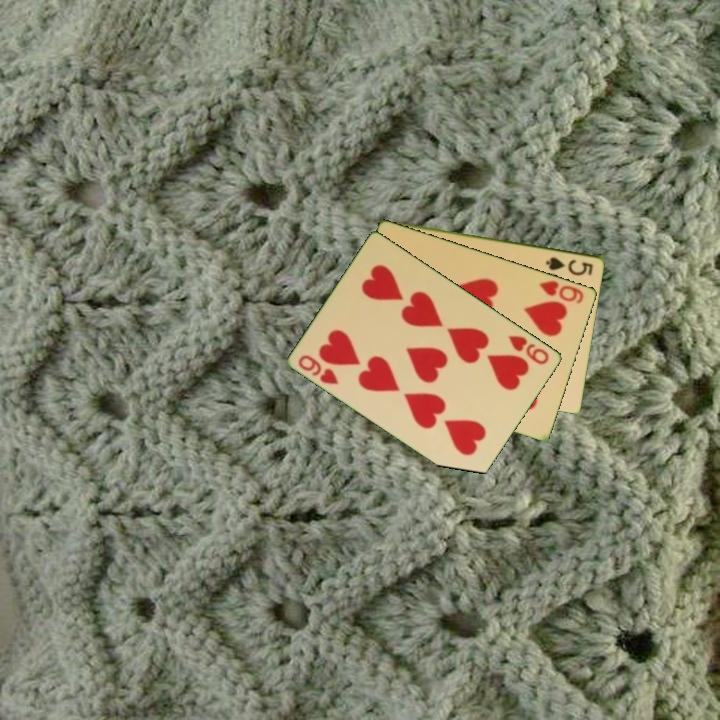5s: (542, 253, 596, 278)
6h: (536, 277, 587, 306)
9h: (505, 332, 552, 368), (295, 351, 342, 387)
